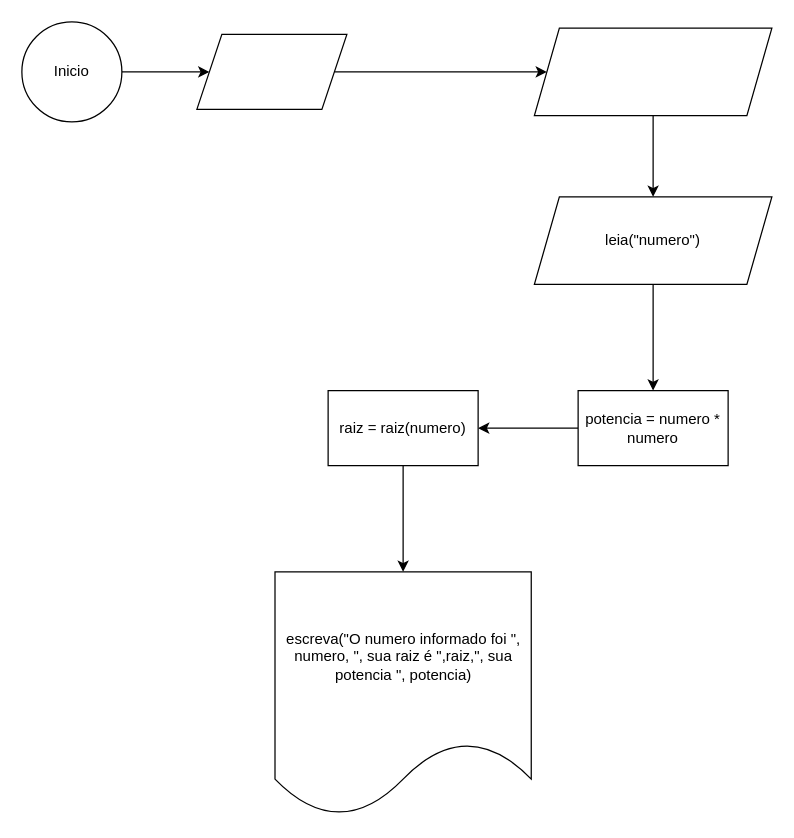
This 794x838 diagram has some shape labels left out. Each missing label, with the centre of its shape:
escreva("Informe um valor"): (652,71)
real numero real raiz real potencia: (271,71)
